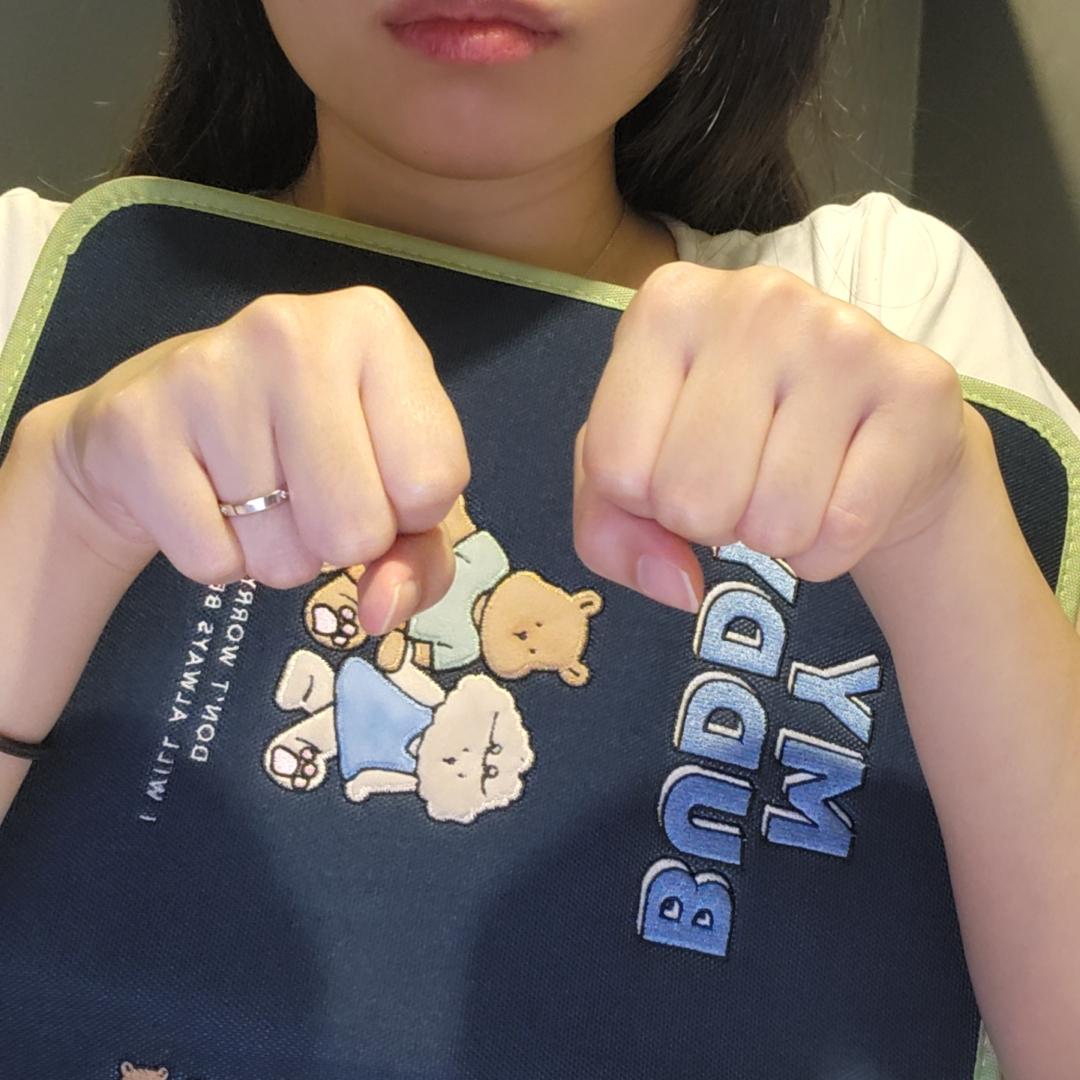hello: (99, 262, 952, 638)
